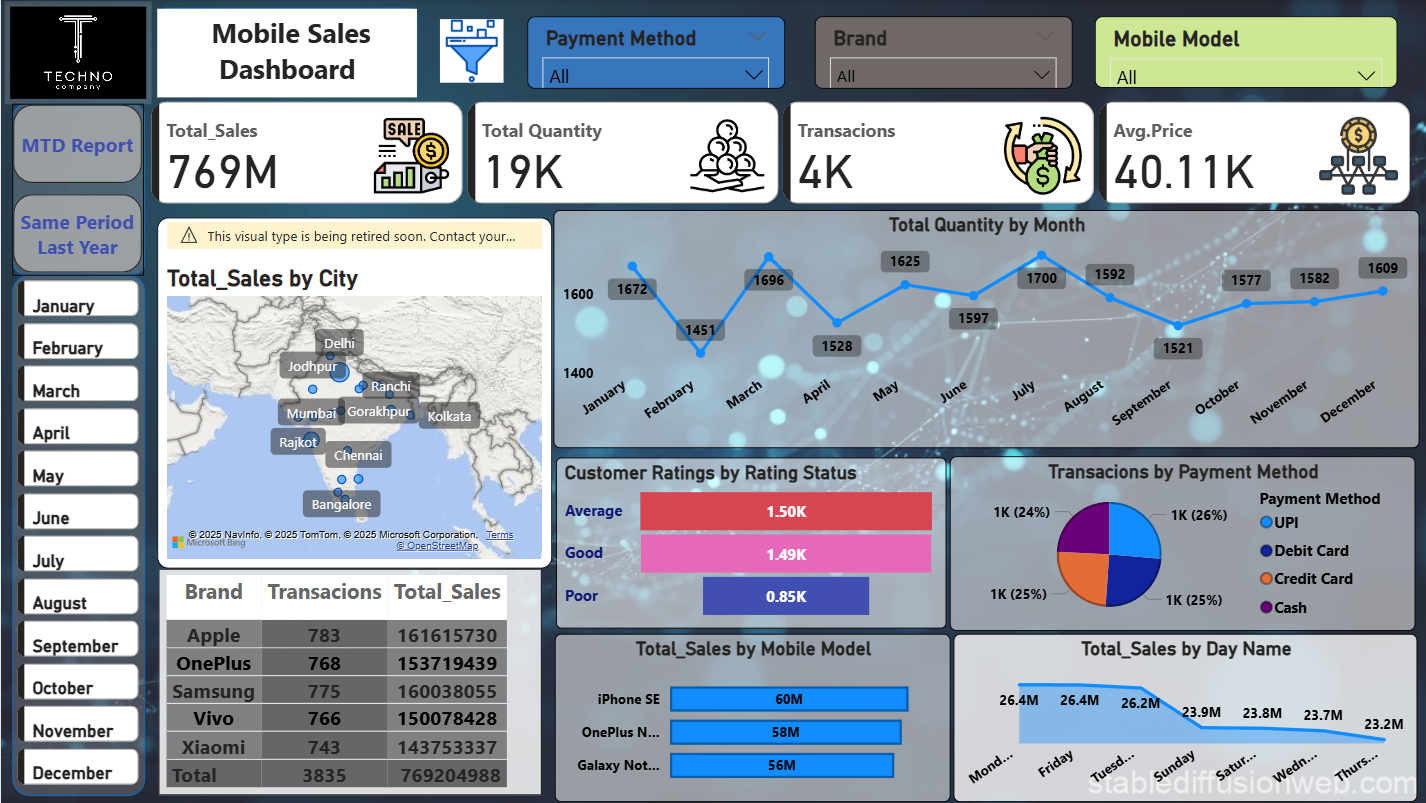

This screenshot's page, from the dashboard's own definition file:
{"tool":"powerbi","page":{"name":"Dashboard","canvas":[1280,720],"ordinal":0},"visuals":[{"type":"image","box":[3.3,1.1,131.1,92.2],"z":0},{"type":"shape","box":[10,92.2,118.9,153.3],"z":1000},{"type":"shape","box":[10,245.6,118.9,465.6],"z":2000},{"type":"advancedSlicerVisual","fields":{"Values":["Custom Calendar.Dates.Variation.Date Hierarchy.Month"]},"box":[9.8,245.1,118.3,472],"z":3000},{"type":"cardVisual","fields":{"Data":["Mobiles Sales Data.Total_Sales","Mobiles Sales Data.Total Quantity","Mobiles Sales Data.Transacions","Mobiles Sales Data.Avg.Price"]},"box":[129.1,86,1137.2,101.2],"z":4000},{"type":"slicer","fields":{"Values":["Mobiles Sales Data.Mobile Model"]},"box":[976.5,14.8,270.4,64.2],"z":5000},{"type":"slicer","fields":{"Values":["Mobiles Sales Data.Brand"]},"box":[726.5,14.5,230.1,65.1],"z":6000},{"type":"slicer","fields":{"Values":["Mobiles Sales Data.Payment Method"]},"box":[469.9,14.5,230.1,65.1],"z":7000},{"type":"shape","box":[139.8,7.2,232.5,79.5],"z":8000},{"type":"image","box":[330.1,12,179.5,66.3],"z":9000},{"type":"textbox","box":[140,7.8,232.2,78.9],"z":10000},{"type":"map","fields":{"Size":["Mobiles Sales Data.Total_Sales"],"Category":["Mobiles Sales Data.City"]},"box":[140,193.8,352.5,313.8],"z":11000},{"type":"lineChart","fields":{"Y":["Mobiles Sales Data.Total Quantity"],"Category":["Custom Calendar.Dates.Variation.Date Hierarchy.Month"]},"box":[493,187.2,773.3,212.8],"z":12000},{"type":"funnel","title":"Customer Ratings by Rating Status","fields":{"Y":["CountNonNull(Mobiles Sales Data.Customer Ratings)"],"Category":["Mobiles Sales Data.Rating Status"]},"box":[496.3,408.5,348.8,152.4],"z":13000},{"type":"pieChart","fields":{"Y":["Mobiles Sales Data.Transacions"],"Category":["Mobiles Sales Data.Payment Method"]},"box":[847.6,407.3,415.9,156.1],"z":14000},{"type":"barChart","fields":{"Category":["Mobiles Sales Data.Mobile Model"],"Y":["Mobiles Sales Data.Total_Sales"]},"box":[494.2,566.3,353.5,150],"z":15000},{"type":"areaChart","fields":{"Category":["Custom Calendar.Day Name"],"Y":["Mobiles Sales Data.Total_Sales"]},"box":[851.2,565.9,414.6,150],"z":16000},{"type":"tableEx","fields":{"Values":["Mobiles Sales Data.Brand","Mobiles Sales Data.Transacions","Mobiles Sales Data.Total_Sales"]},"box":[140.2,508.5,342.7,202.4],"z":17000},{"type":"pageNavigator","box":[10,92.2,117.8,153.3],"z":18000}]}

Visuals, with their boxes in screenshot pixels (x1, y1, x2, y2), scaled from the page's 1280x720 canvas onto the 1426x803 screenshot:
image: locate(4, 1, 150, 104)
shape: locate(11, 103, 144, 274)
shape: locate(11, 274, 144, 793)
advancedSlicerVisual - Custom Calendar.Dates.Variation.Date Hierarchy.Month: locate(11, 273, 143, 800)
cardVisual - Mobiles Sales Data.Total_Sales x Mobiles Sales Data.Total Quantity: locate(144, 96, 1411, 209)
slicer - Mobiles Sales Data.Mobile Model: locate(1088, 17, 1389, 88)
slicer - Mobiles Sales Data.Brand: locate(809, 16, 1066, 89)
slicer - Mobiles Sales Data.Payment Method: locate(523, 16, 780, 89)
shape: locate(156, 8, 415, 97)
image: locate(368, 13, 568, 87)
textbox: locate(156, 9, 415, 97)
map - Mobiles Sales Data.Total_Sales x Mobiles Sales Data.City: locate(156, 216, 549, 566)
lineChart - Mobiles Sales Data.Total Quantity x Custom Calendar.Dates.Variation.Date Hierarchy.Month: locate(549, 209, 1411, 446)
"Customer Ratings by Rating Status" funnel: locate(553, 456, 941, 626)
pieChart - Mobiles Sales Data.Transacions x Mobiles Sales Data.Payment Method: locate(944, 454, 1408, 628)
barChart - Mobiles Sales Data.Mobile Model x Mobiles Sales Data.Total_Sales: locate(551, 632, 944, 799)
areaChart - Custom Calendar.Day Name x Mobiles Sales Data.Total_Sales: locate(948, 631, 1410, 798)
tableEx - Mobiles Sales Data.Brand x Mobiles Sales Data.Transacions: locate(156, 567, 538, 793)
pageNavigator: locate(11, 103, 142, 274)
